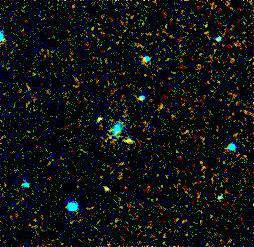star: (114, 127, 144, 157)
